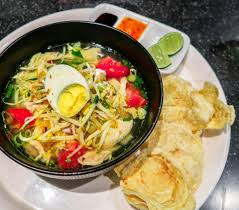soto: (1, 15, 159, 174)
